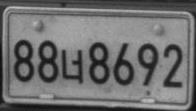2: (162, 42, 183, 88)
6: (112, 42, 134, 86)
8: (37, 39, 59, 83), (88, 40, 110, 84), (13, 38, 34, 82)
9: (136, 42, 159, 86)
너: (61, 48, 83, 84)
